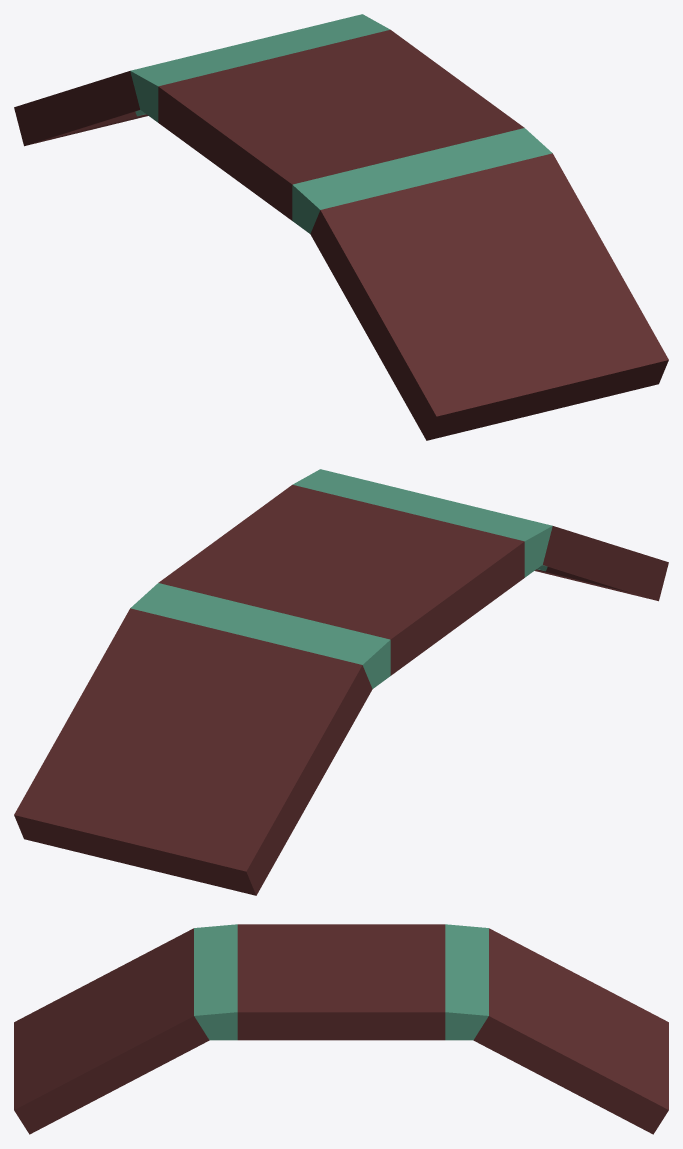
Rendered from red_ceiling3.fbx.
3 views of the same model, one above another, from view 1: azimuth 30°, elevation 25°; view 2: azimuth 150°, elevation 25°; view 3: azimuth 270°, elevation 25° (orthographic). The views are drawn at different scales.
Visible parts, largest first — view 1: red_ceiling3; view 2: red_ceiling3; view 3: red_ceiling3.
Part boxes in pixels (x1,y1,x2,y2): red_ceiling3: (14, 14, 668, 440); red_ceiling3: (14, 469, 668, 895); red_ceiling3: (14, 924, 668, 1134).
Size of the model in its own units: 400 by 260 by 1260.
Materials: 1 (1 with a texture image).
